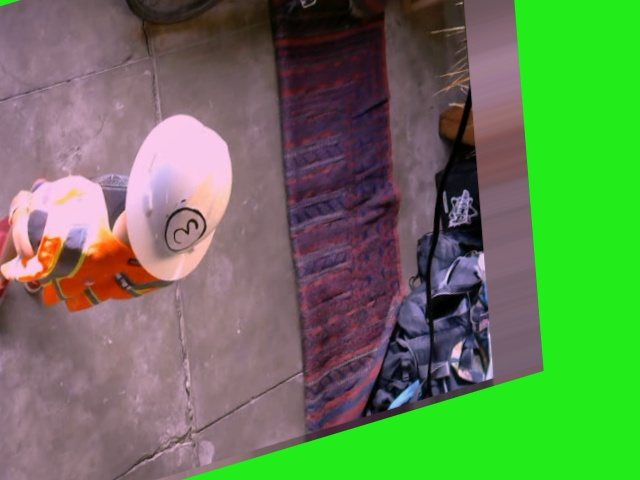three: (163, 200, 207, 254)
